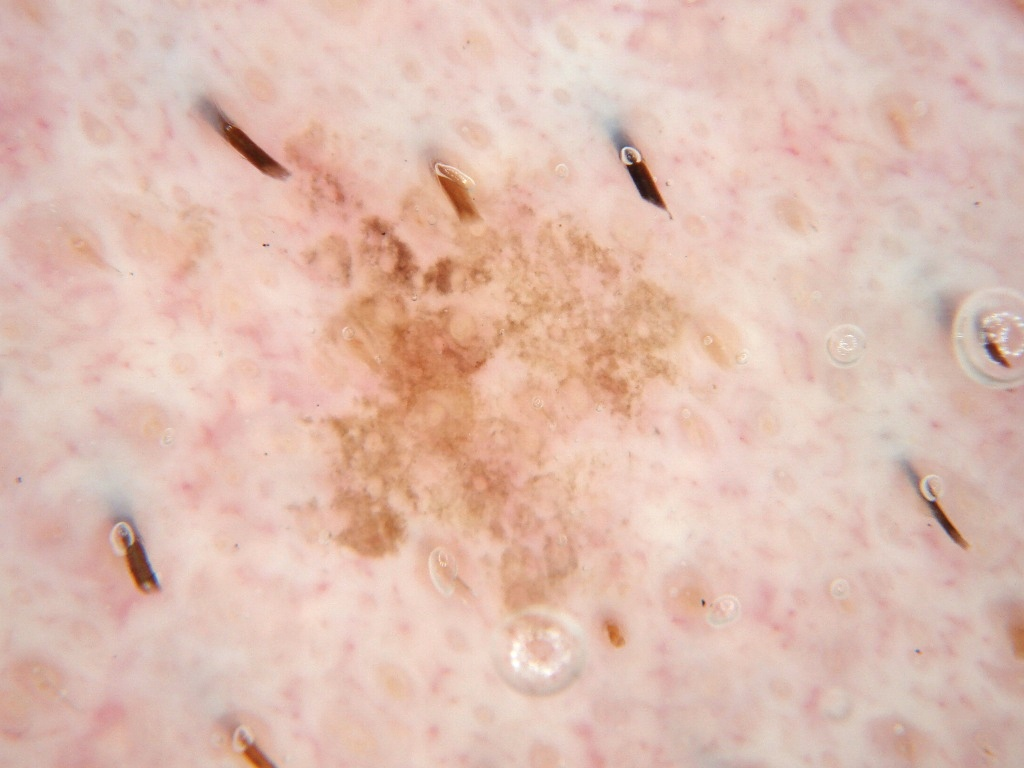Detected Lesion: (278, 110, 741, 638)
